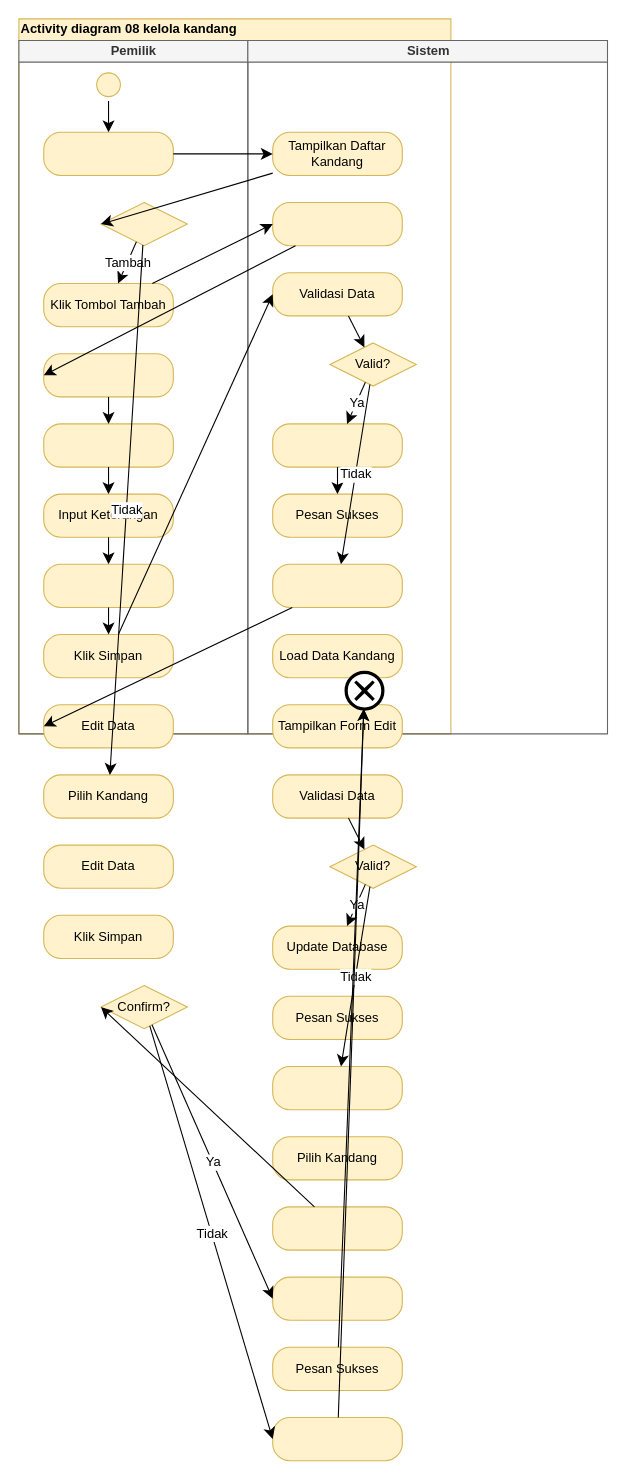
This 626x1480 diagram has some shape labels left out. The shapes that lost their labels are listed below. From the top down, each one's centre as x and y in pixels, then its label:
point 108,153: Buka Kelola Kandang
point 143,223: Pilih Aksi?
point 337,223: Tampilkan Form Input
point 108,375: Input Nama Kandang
point 108,445: Input Jumlah Ayam
point 337,445: Simpan ke Database
point 108,585: Input PIC
point 337,585: Tampilkan Error
point 337,1087: Error
point 337,1228: Tampilkan Konfirmasi
point 337,1298: Hapus Kandang & Data Terkait
point 337,1438: Batal
